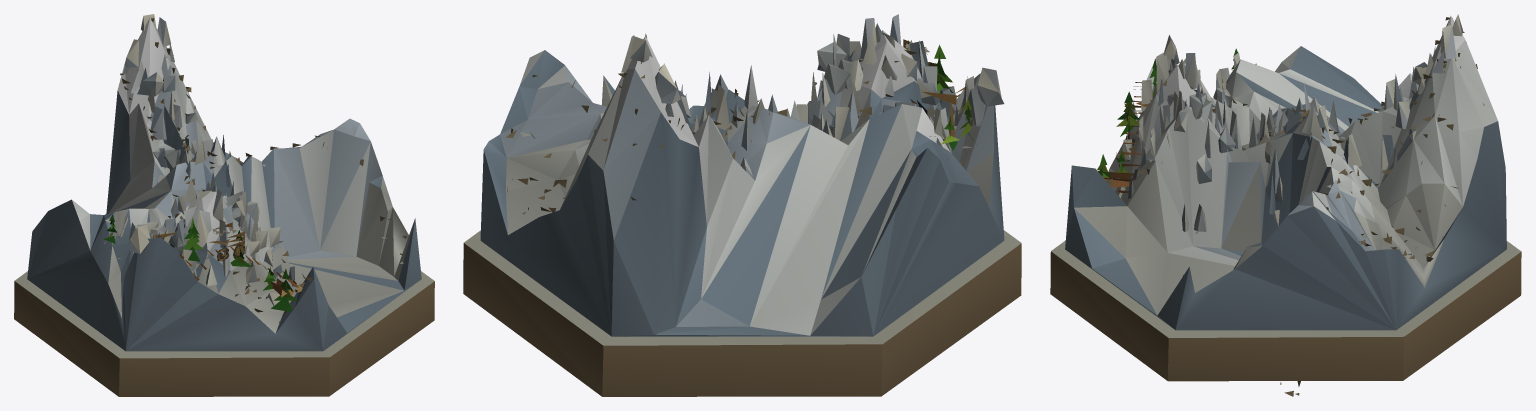
Rendered from tile_stone_lod1.glb.
3 renders of one model, left to right at view 1: azimuth 30°, elevation 25°; view 2: azimuth 150°, elevation 25°; view 3: azimuth 270°, elevation 25°, orthographic. The views are drawn at different scales.
Parts seen in each view (by area): view 1: tile_stone_LOD1; view 2: tile_stone_LOD1; view 3: tile_stone_LOD1.
Part boxes in pixels (x1,y1,x2,y2): tile_stone_LOD1: [14, 14, 434, 396]; tile_stone_LOD1: [463, 14, 1021, 396]; tile_stone_LOD1: [1050, 14, 1521, 396].
Size of the model in its own units: 1.72 by 1.56 by 1.98.
